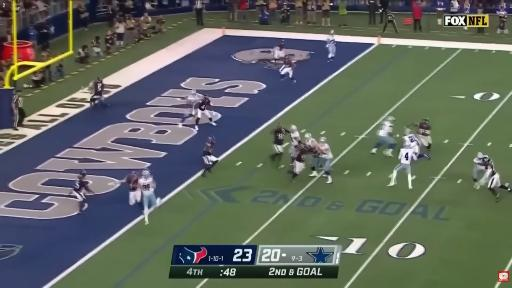Helmet: (386, 116, 398, 123), (318, 137, 326, 145), (402, 129, 411, 136), (483, 156, 491, 163), (208, 134, 216, 141), (142, 170, 150, 177), (131, 171, 138, 179), (290, 125, 298, 131), (190, 90, 197, 96), (306, 133, 312, 140), (405, 142, 411, 149), (477, 152, 483, 158), (79, 170, 86, 175), (328, 30, 335, 35), (280, 38, 285, 45), (283, 54, 289, 59), (422, 120, 429, 124), (98, 78, 103, 82), (203, 96, 209, 99), (278, 123, 282, 127)
Jersey: (296, 144, 314, 162), (273, 127, 289, 145), (138, 176, 154, 194), (399, 149, 417, 164), (125, 173, 138, 191), (378, 121, 393, 136), (73, 179, 88, 193), (319, 143, 333, 158), (403, 135, 419, 148), (474, 158, 491, 169), (418, 122, 431, 136), (203, 141, 214, 156), (93, 81, 104, 96), (290, 131, 300, 146), (283, 57, 295, 69), (305, 138, 318, 149), (186, 96, 199, 107), (199, 98, 210, 110), (486, 163, 497, 175), (327, 35, 335, 47), (275, 44, 283, 53)
Player: (475, 164, 510, 202), (388, 146, 417, 189), (138, 170, 161, 224), (310, 137, 333, 183), (70, 170, 94, 213), (371, 116, 396, 157), (289, 142, 312, 181), (403, 128, 430, 158), (119, 172, 141, 205), (271, 123, 290, 161), (179, 90, 199, 126), (195, 96, 216, 130), (473, 153, 492, 186), (203, 135, 218, 176), (414, 119, 431, 150), (89, 78, 107, 106), (289, 125, 300, 165), (280, 56, 295, 83), (273, 40, 286, 63), (326, 30, 335, 62), (436, 0, 445, 25), (304, 133, 318, 149), (464, 0, 470, 14)
